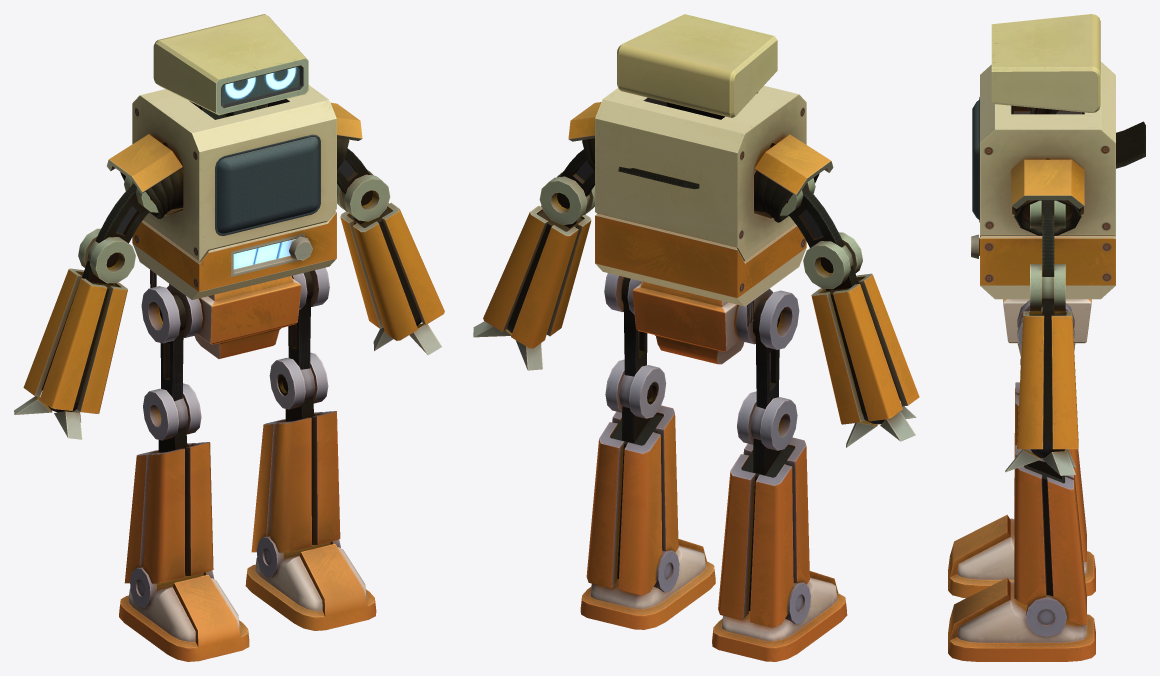
The model's file is SM0029_Scifi_BrokenRobot_Fixed.fbx.
The picture shows the model from 3 angles, left to right: view 1: azimuth 30°, elevation 25°; view 2: azimuth 150°, elevation 25°; view 3: azimuth 270°, elevation 25°; orthographic projection. The views are drawn at different scales.
Parts seen in each view (by area): view 1: Cube.033; view 2: Cube.033; view 3: Cube.033.
Boxes of the visible parts, x1,y1,x2,y2 form: Cube.033: [14, 14, 444, 661]; Cube.033: [473, 14, 919, 661]; Cube.033: [948, 14, 1145, 661].
Bounding box in the file's own units: 109 × 42.8 × 136.
